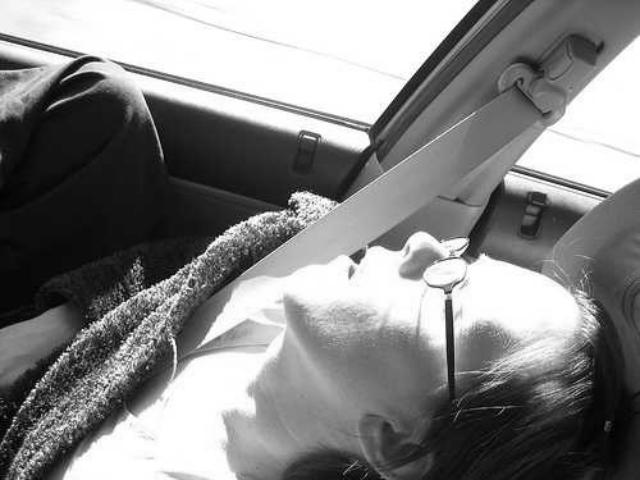Seatbelt: (132, 34, 606, 388)
